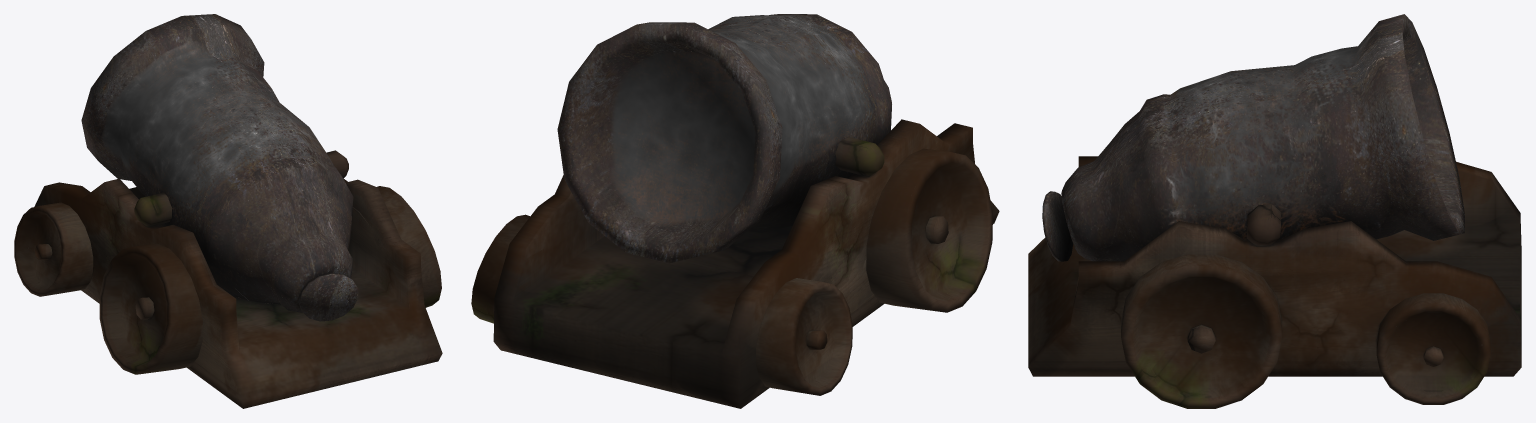
File: FinalCannon.obj
3 renders of one model, left to right at view 1: azimuth 30°, elevation 25°; view 2: azimuth 150°, elevation 25°; view 3: azimuth 270°, elevation 25°, orthographic. The views are drawn at different scales.
Parts seen in each view (by area): view 1: Tapa_canon_Plane.002, Carreta_Plane, RaD.001_Circle.015, Tubo_cañon_Plane.001; view 2: Tapa_canon_Plane.002, Carreta_Plane, RaD.001_Circle.015, Tubo_cañon_Plane.001; view 3: Tapa_canon_Plane.002, Carreta_Plane, RaD.001_Circle.015, Tubo_cañon_Plane.001.
Boxes of the visible parts, x1,y1,x2,y2 form: Tapa_canon_Plane.002: [81, 14, 358, 321]; Carreta_Plane: [34, 178, 442, 408]; RaD.001_Circle.015: [14, 186, 441, 374]; Tubo_cañon_Plane.001: [35, 150, 348, 319]; Tapa_canon_Plane.002: [557, 14, 891, 263]; Carreta_Plane: [493, 119, 999, 408]; RaD.001_Circle.015: [471, 148, 992, 395]; Tubo_cañon_Plane.001: [806, 137, 948, 349]; Tapa_canon_Plane.002: [1042, 14, 1464, 261]; Carreta_Plane: [1028, 156, 1521, 376]; RaD.001_Circle.015: [1121, 254, 1490, 408]; Tubo_cañon_Plane.001: [1187, 204, 1443, 366].
Bounding box in the file's own units: 2.01 × 1.72 × 2.52.
4 materials, 4 textured.
